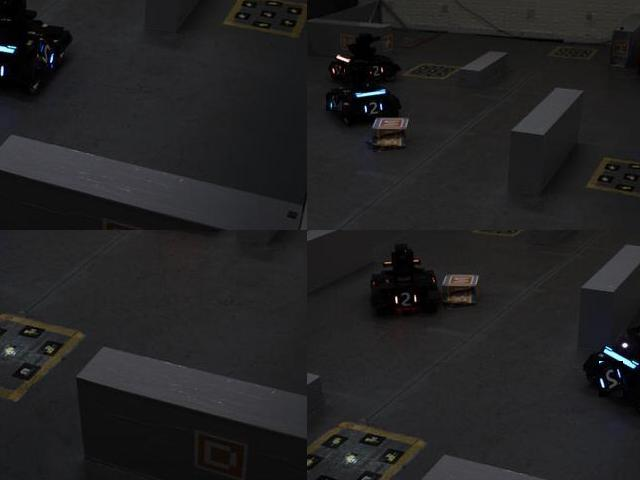armor: (599, 361, 624, 398), (38, 40, 62, 70), (393, 290, 421, 311), (358, 98, 387, 117), (364, 61, 386, 80), (327, 94, 344, 113), (0, 55, 9, 86), (332, 62, 346, 80)
